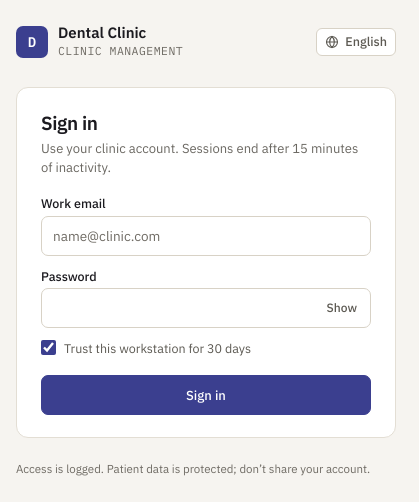
Test case: SignInForm › lets the user pick a language before signing in
Press the mouse on the button with aria-label "Language" at [356, 42], box [316,28,396,56]
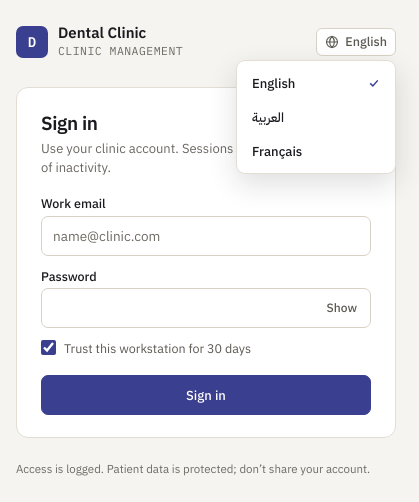
Click the menu item "Français".
click(277, 151)  # box [252,142,302,160]
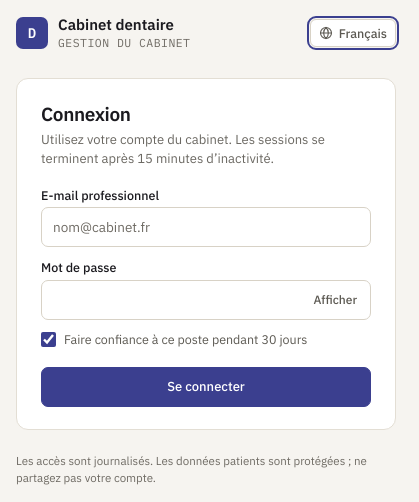
Expected: the button "Se connecter" is shown, [41,367,371,407]
Expected: the button with aria-label "Langue" is shown, [310,19,396,47]
